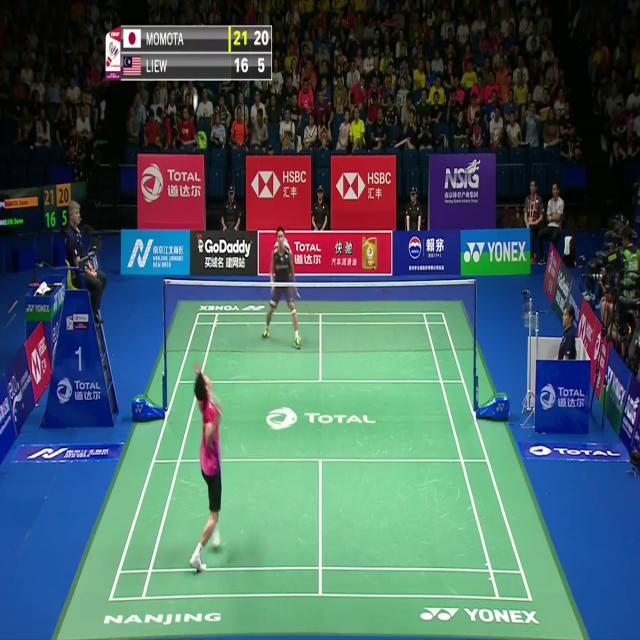Shuttlecock: (192, 95, 198, 106)
